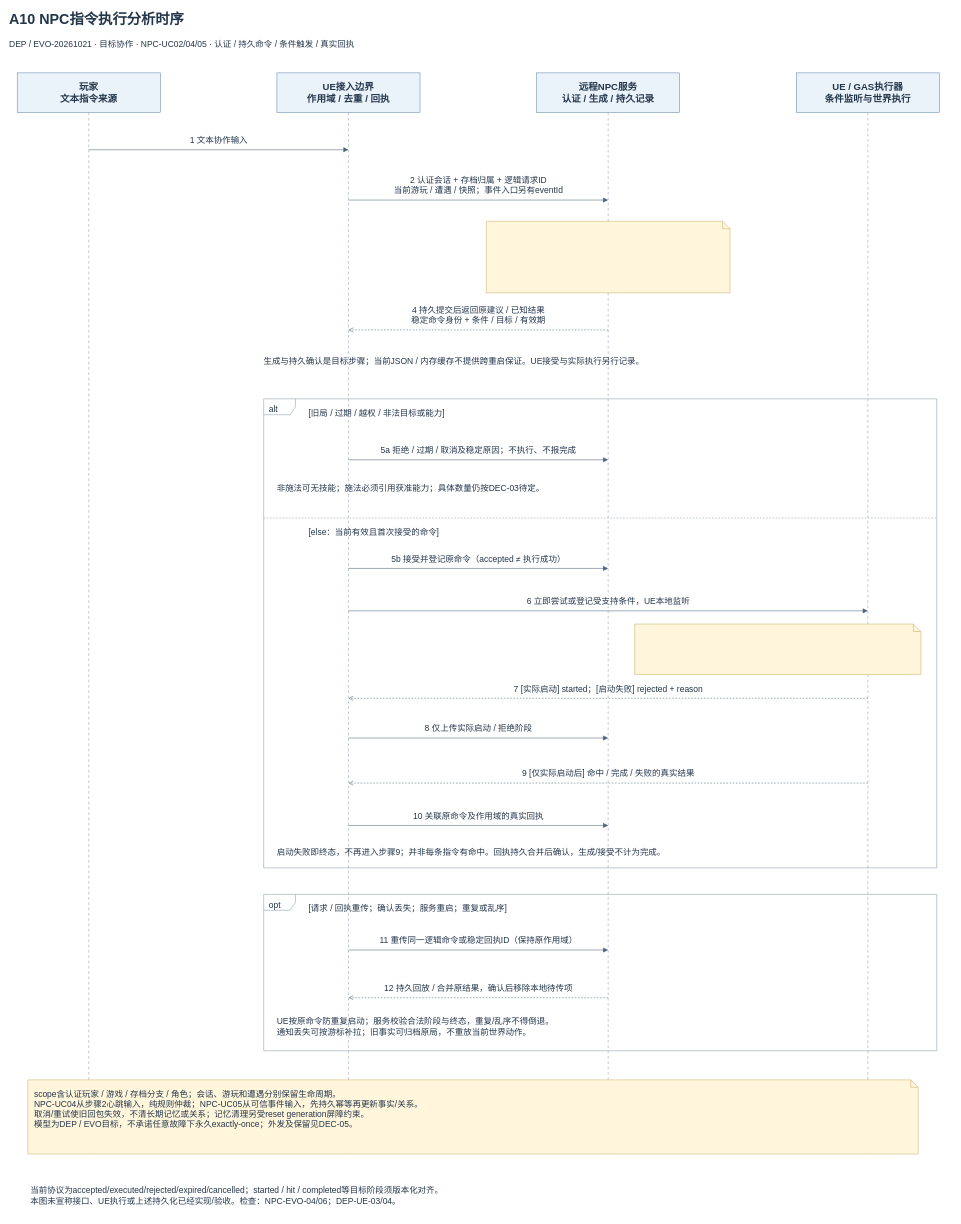
Some shapes in this 961 by 1224 pixel diagram are drawn without their labels. Here are the shapes that lost their labels. From the top down, the centre of each, then its label:
At pixel 608 257: "3 验证玩家 / 存档作用域 查询持久幂等键及请求内容 首次：生成并保存原结果 重复：回放；同键异内容：冲突".
At pixel 777 649: "条件触发 / 即时执行时，再查当前遭遇、目标与TTL。 检查当前GAS及不可打断窗口；断网保留有效已登记条件。 新遭遇不恢复旧命令。".
